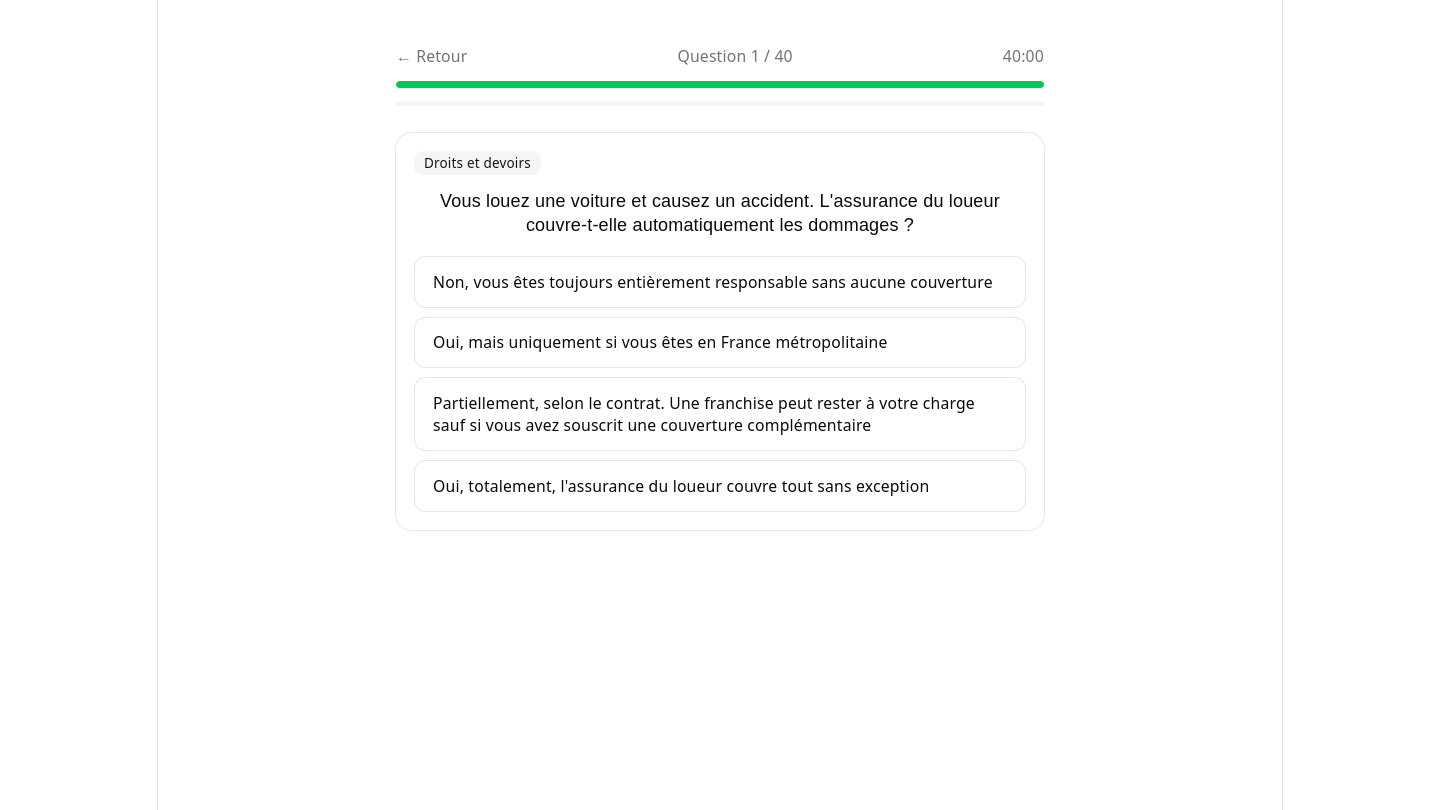
Examen › cliquer sur "← Retour" ouvre le dialog de confirmation
The image size is (1440, 810).
Step 1. Click the button with aria-label "Retour à l'accueil" → (432, 56), box 396,45 -> 467,68
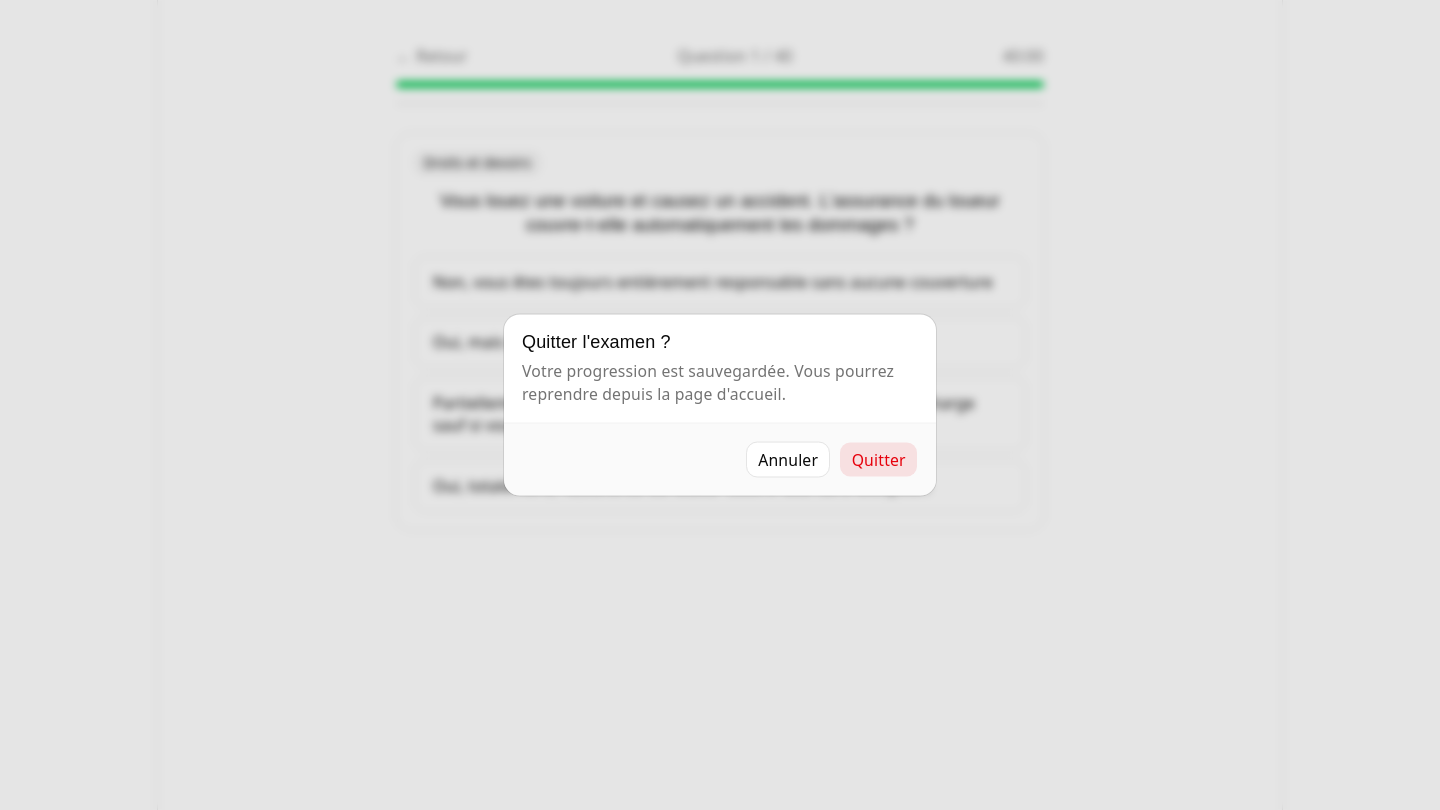
expect the heading "Quitter l'examen ?" is shown: met, box 522,332 -> 671,352
expect the button "Annuler" is shown: met, box 746,442 -> 830,478
expect the button "Quitter" is shown: met, box 839,442 -> 918,478
